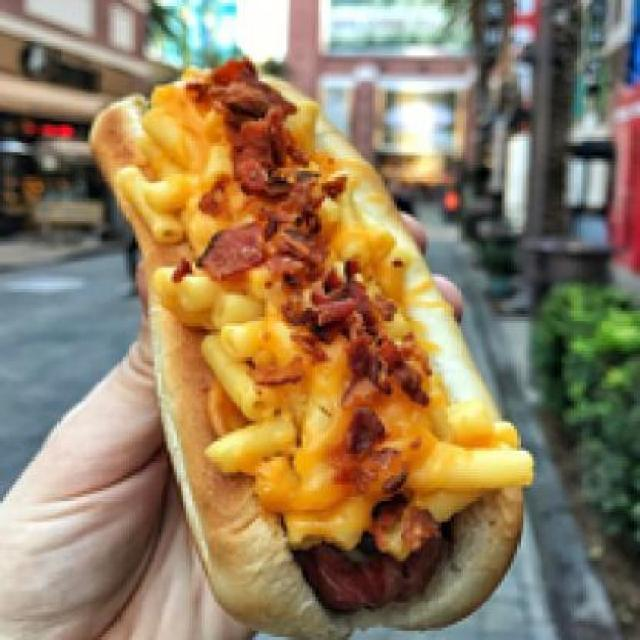hot dog: (297, 512, 448, 612)
macaroni and cheese: (107, 55, 536, 500)
